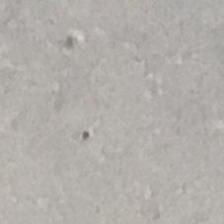Non_Crack: (10, 24, 211, 199)
